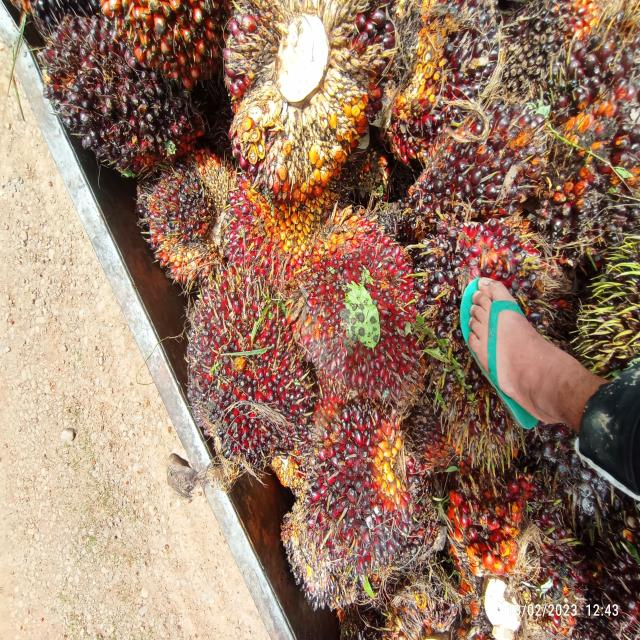fraksi 1: (388, 80, 576, 254), (293, 388, 442, 588), (175, 259, 314, 458), (441, 451, 582, 640), (131, 143, 238, 274)
fraksi 3: (290, 197, 432, 410), (212, 155, 346, 292)
